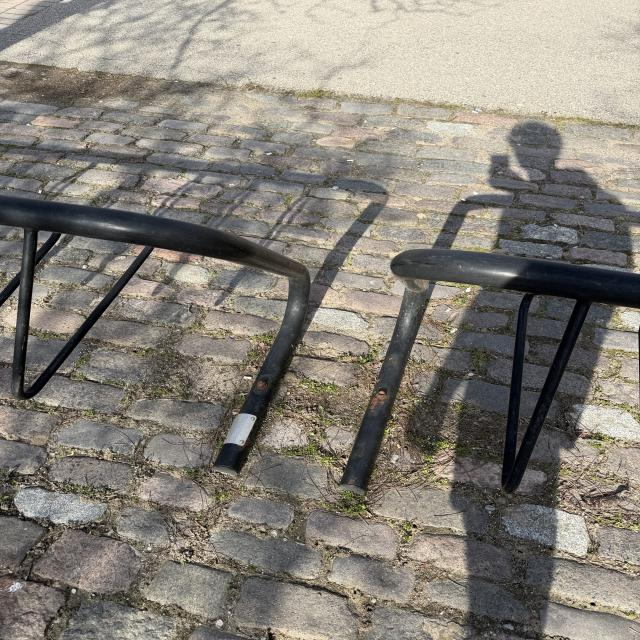Bicycle Rack: (0, 199, 316, 476), (332, 252, 640, 490)
